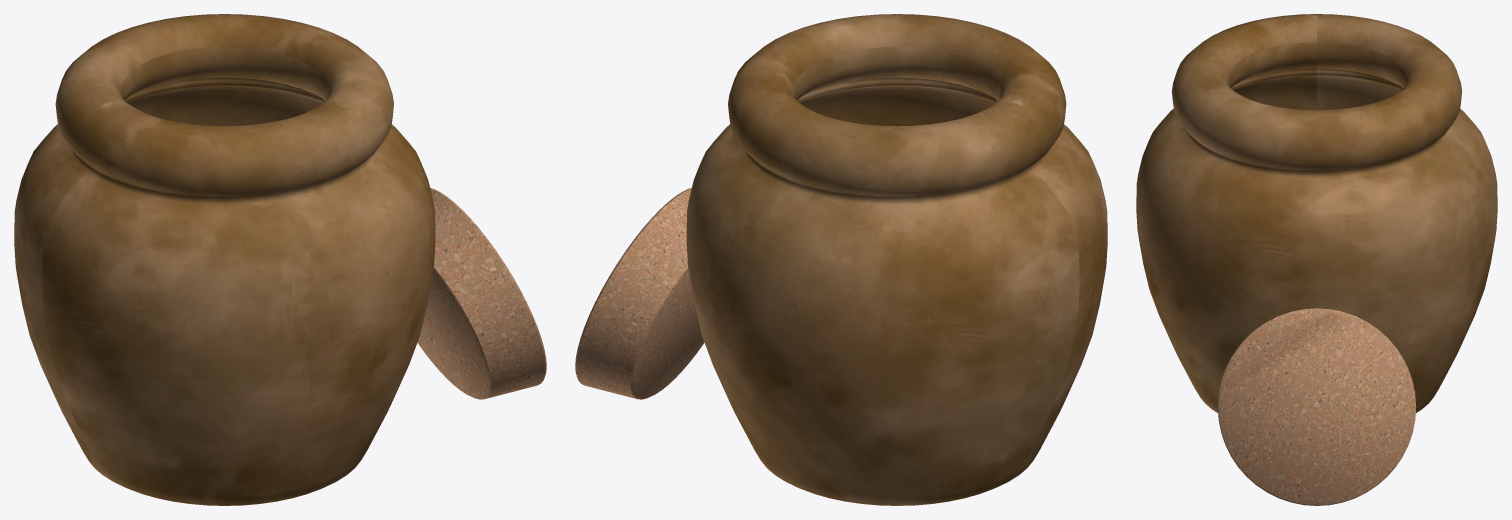
The model's file is tc-dc-honey_pot.glb.
3 renders of one model, left to right at view 1: azimuth 30°, elevation 25°; view 2: azimuth 150°, elevation 25°; view 3: azimuth 270°, elevation 25°, orthographic. The views are drawn at different scales.
Parts seen in each view (by area): view 1: HoneyPot_HoneyPot_0, HoneyPotCork_HoneyPotCork_0; view 2: HoneyPot_HoneyPot_0, HoneyPotCork_HoneyPotCork_0; view 3: HoneyPot_HoneyPot_0, HoneyPotCork_HoneyPotCork_0.
Boxes of the visible parts, <box> form: HoneyPot_HoneyPot_0: <box>14,14,435,505</box>; HoneyPotCork_HoneyPotCork_0: <box>417,188,546,399</box>; HoneyPot_HoneyPot_0: <box>686,14,1107,505</box>; HoneyPotCork_HoneyPotCork_0: <box>575,188,704,399</box>; HoneyPot_HoneyPot_0: <box>1136,14,1497,412</box>; HoneyPotCork_HoneyPotCork_0: <box>1217,308,1416,505</box>.
Bounding box in the file's own units: 0.1727 × 0.1313 × 0.1335.
2 materials, 2 textured.
